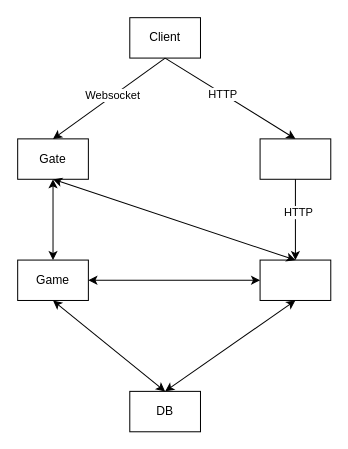
This 348x449 diagram has some shape labels left out. The centre of each missing label's shape, as x and y in pixels:
Lobby: (295,279)
Login: (295,158)
